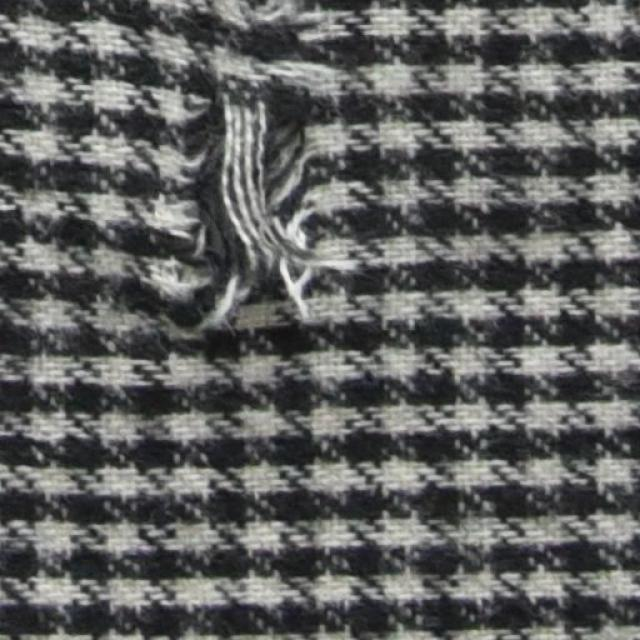Snag: (173, 0, 359, 325)
